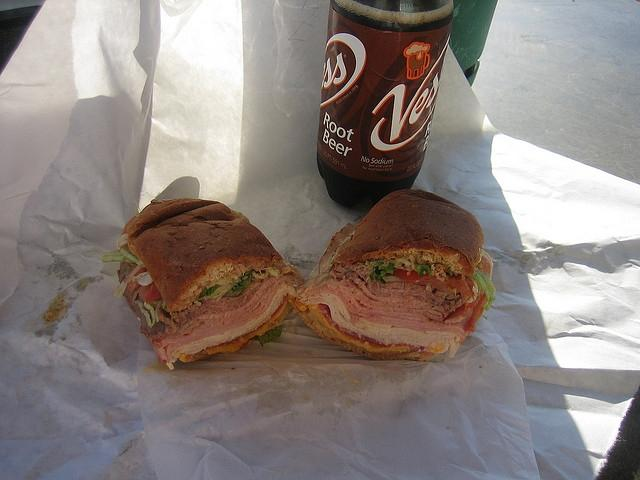lettuce: (113, 260, 144, 299), (473, 268, 496, 312), (212, 274, 241, 301), (102, 248, 141, 266), (249, 326, 282, 347), (134, 300, 156, 328), (232, 270, 252, 291), (373, 262, 394, 274), (200, 284, 218, 296), (415, 264, 431, 276)
tomato: (392, 268, 474, 296), (465, 292, 488, 334), (138, 282, 162, 304)
